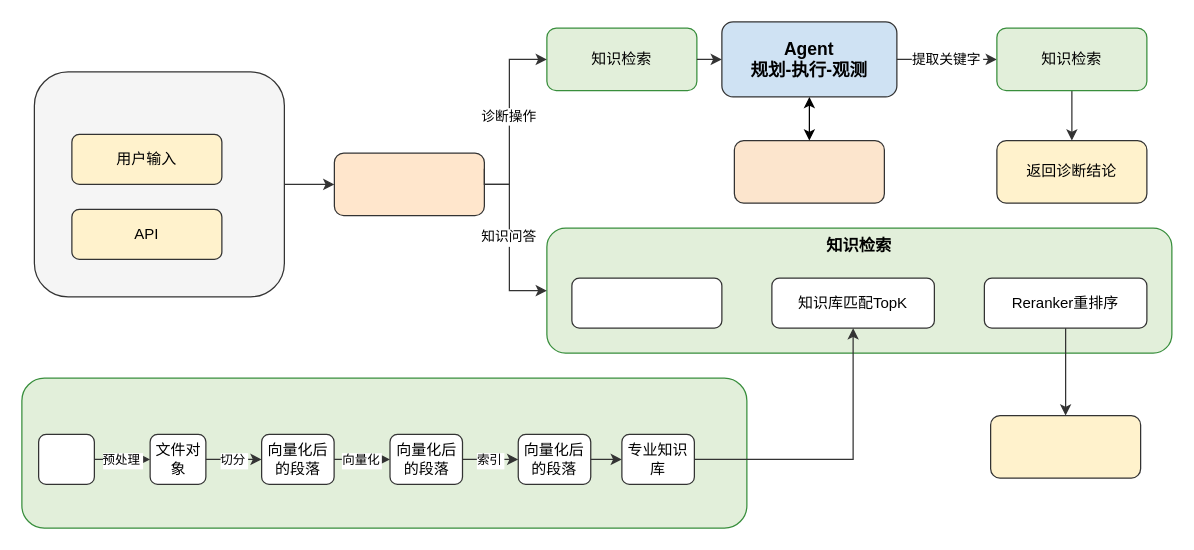
This 1194x550 diagram has some shape labels left out. The shapes that lost their labels are listed below. From the top down, each one's box as (x1, y1, x2, y2) in pixels, then its label:
(33, 71, 284, 297): 输入层
(333, 152, 484, 216): 意图识别
(733, 139, 884, 203): MCP Server
(571, 277, 722, 328): 向量化处理
(37, 433, 94, 484): 专业知识
(21, 377, 747, 528): 知识库构建
(989, 414, 1141, 478): 返回答案
